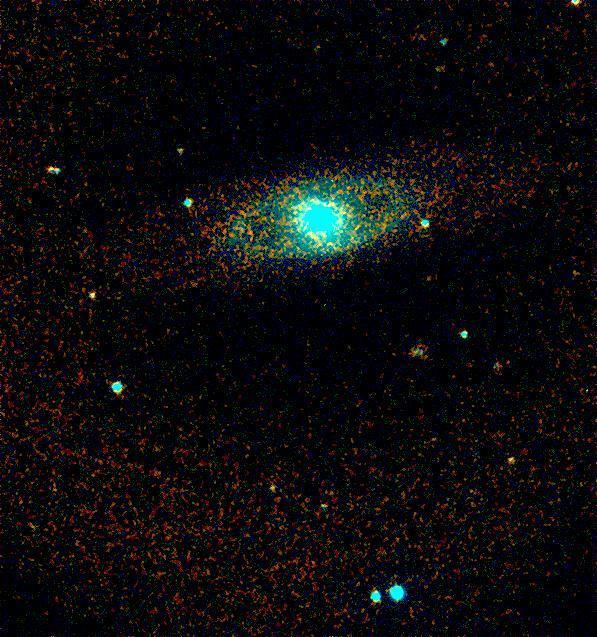star: (74, 279, 104, 309)
